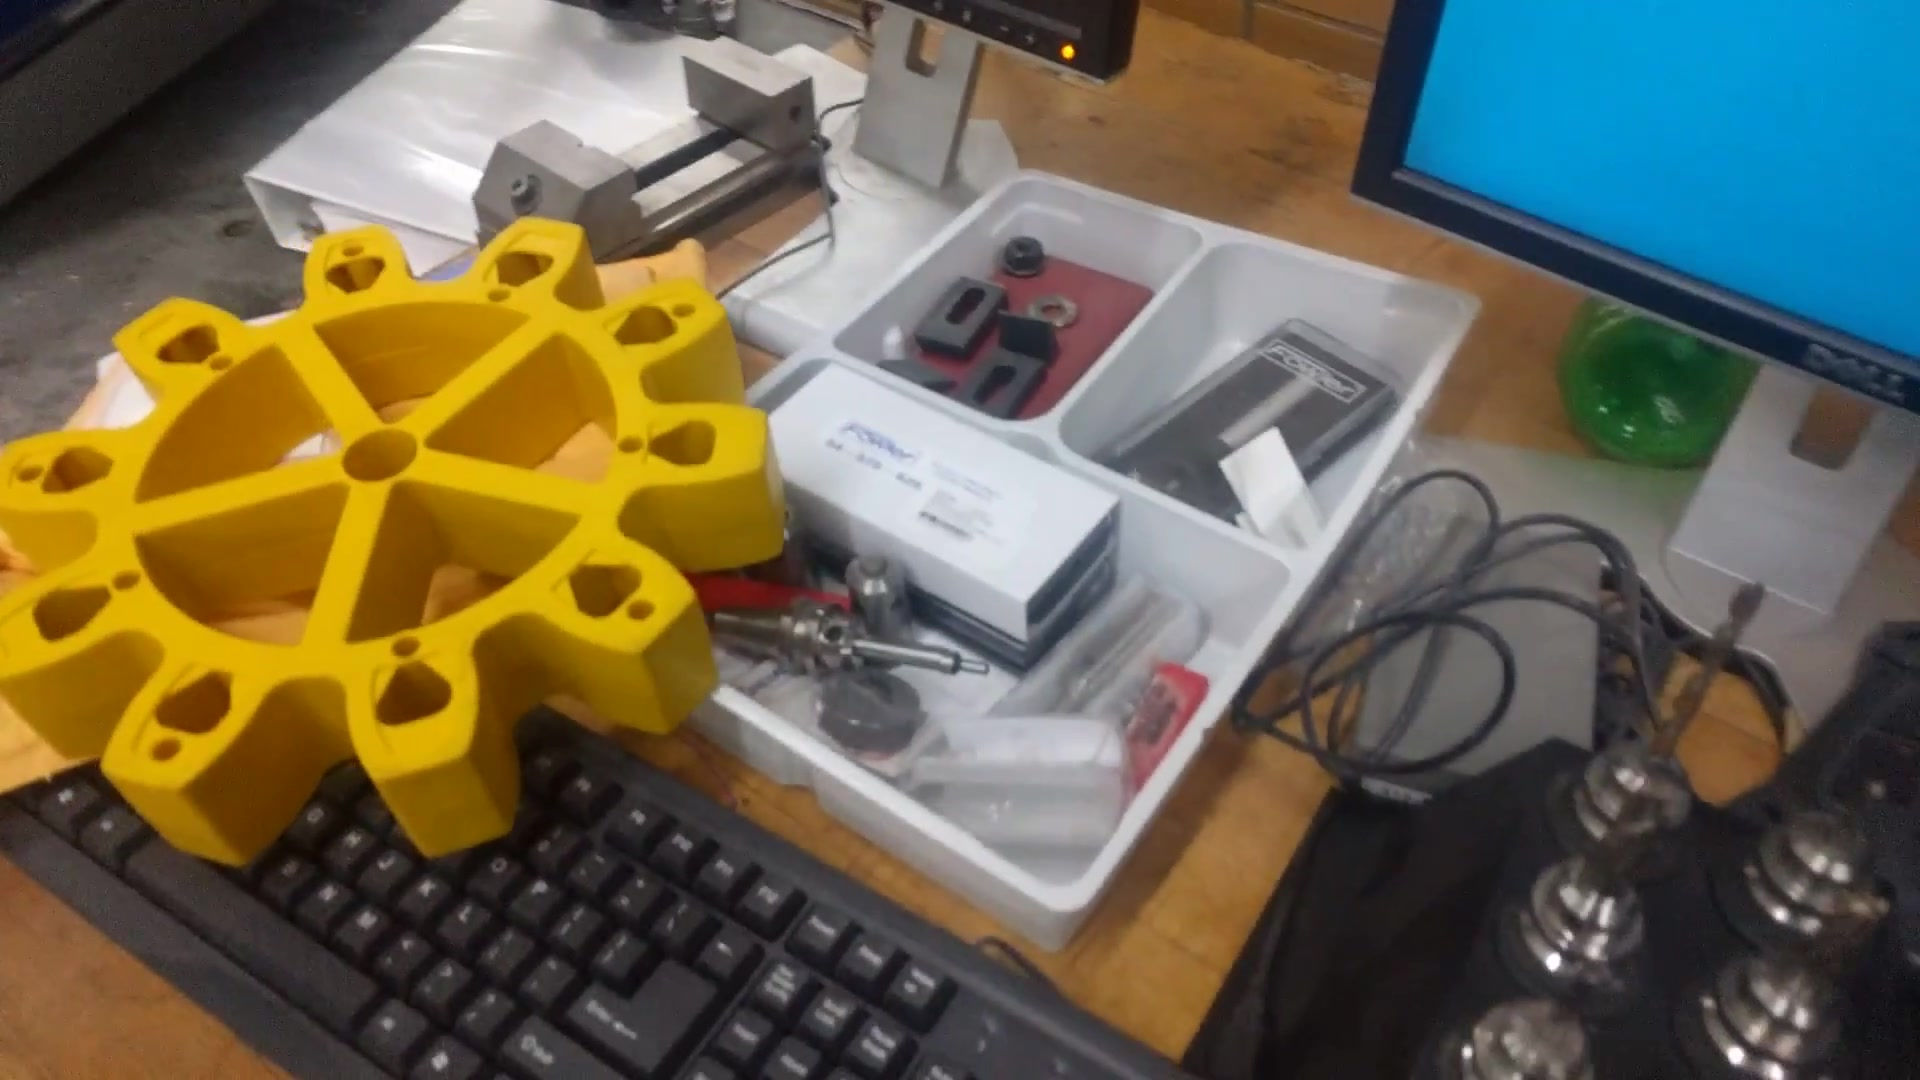gear: (15, 214, 829, 866)
